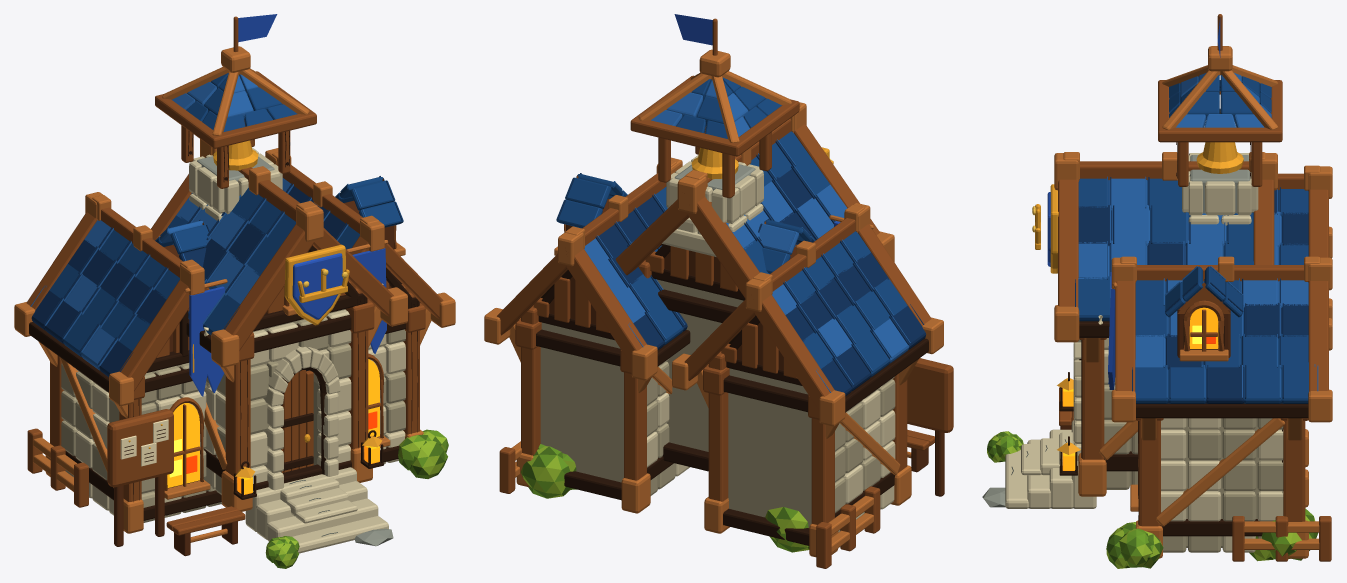
The model's file is town_hall.glb.
3 views of the same model, side by side, from view 1: azimuth 30°, elevation 25°; view 2: azimuth 150°, elevation 25°; view 3: azimuth 270°, elevation 25° (orthographic). The views are drawn at different scales.
Visible parts, largest first — view 1: Civic notice board, Carved roof verge.008, Corner upright.008, Carved roof verge, Cloth heraldic banner, Corner upright.010, Barracks heraldic shield.001, Limestone entrance step.004, Carved roof verge.010, Roof eave beam, Wall cross beam.010, Limestone entrance step.003 (+85 smaller); view 2: Cottage walls, Cottage walls.001, Cottage walls.002, Civic notice board, Carved roof verge.001, Carved roof verge.005, Carved roof verge.009, Corner upright.003, Corner upright.007, Corner upright.001, Corner upright.005, Leaf cluster.011 (+71 smaller); view 3: Carved roof verge.010, Roof eave.003, Corner upright.010, Carved roof verge.006, Carved roof verge.007, Side wall diagonal.003, Ridge timber.001, Corner upright.006, Corner upright.007, Roof eave beam.001, Carved roof verge.011, Ridge timber.002 (+98 smaller).
Boxes of the visible parts, box(x1,y1,x2,y2) form: Civic notice board: box(107, 409, 173, 487); Carved roof verge.008: box(223, 224, 314, 350); Corner upright.008: box(225, 359, 250, 477); Carved roof verge: box(119, 280, 189, 391); Cloth heraldic banner: box(189, 286, 224, 396); Corner upright.010: box(348, 287, 368, 449); Barracks heraldic shield.001: box(292, 253, 342, 319); Limestone entrance step.004: box(267, 498, 378, 541); Carved roof verge.010: box(312, 228, 393, 316); Roof eave beam: box(209, 111, 316, 148); Wall cross beam.010: box(254, 315, 351, 352); Limestone entrance step.003: box(292, 516, 388, 553); Cottage walls: box(728, 368, 811, 527); Cottage walls.001: box(540, 322, 623, 482); Cottage walls.002: box(657, 279, 743, 451); Civic notice board: box(907, 358, 953, 432); Carved roof verge.001: box(754, 294, 834, 410); Carved roof verge.005: box(566, 249, 646, 364); Carved roof verge.009: box(688, 197, 759, 298); Corner upright.003: box(708, 351, 728, 501); Corner upright.007: box(521, 305, 540, 455); Corner upright.001: box(811, 418, 834, 524); Corner upright.005: box(624, 372, 646, 480); Leaf cluster.011: box(520, 446, 571, 498); Carved roof verge.010: box(1058, 179, 1078, 307); Roof eave.003: box(1136, 403, 1308, 418); Corner upright.010: box(1082, 340, 1104, 459); Carved roof verge.006: box(1115, 280, 1135, 391); Carved roof verge.007: box(1308, 280, 1328, 391); Side wall diagonal.003: box(1156, 418, 1284, 526); Ridge timber.001: box(1137, 265, 1303, 281); Corner upright.006: box(1139, 421, 1160, 526); Corner upright.007: box(1283, 421, 1305, 521); Roof eave beam.001: box(1158, 127, 1282, 142); Carved roof verge.011: box(1253, 179, 1274, 264); Ridge timber.002: box(1080, 161, 1248, 179).
Bounding box in the file's own units: 4.33 × 5.54 × 3.64.
